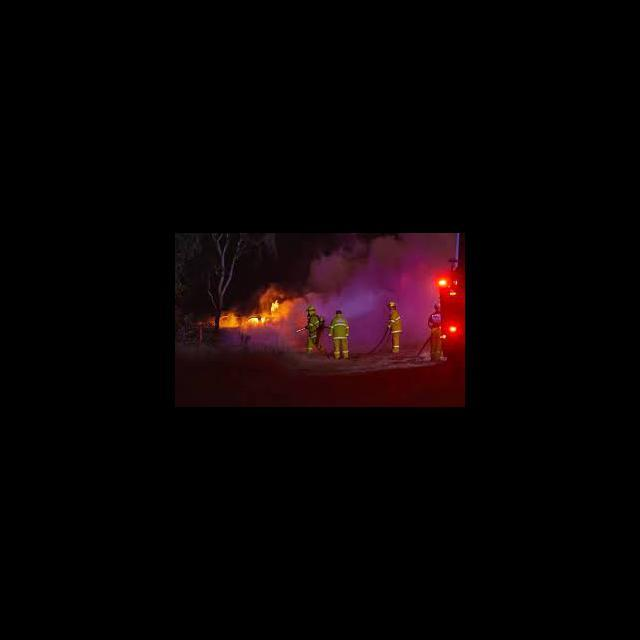Fire: (210, 283, 302, 329)
Smoke: (306, 236, 421, 288)
